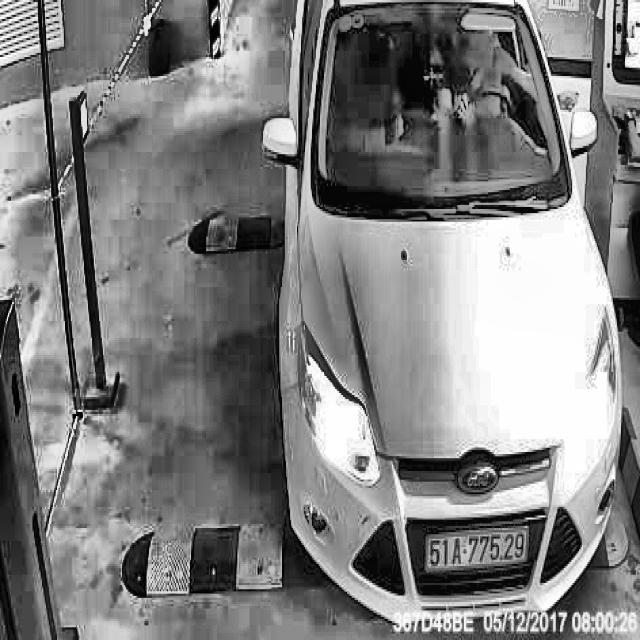plate: (421, 524, 534, 576)
